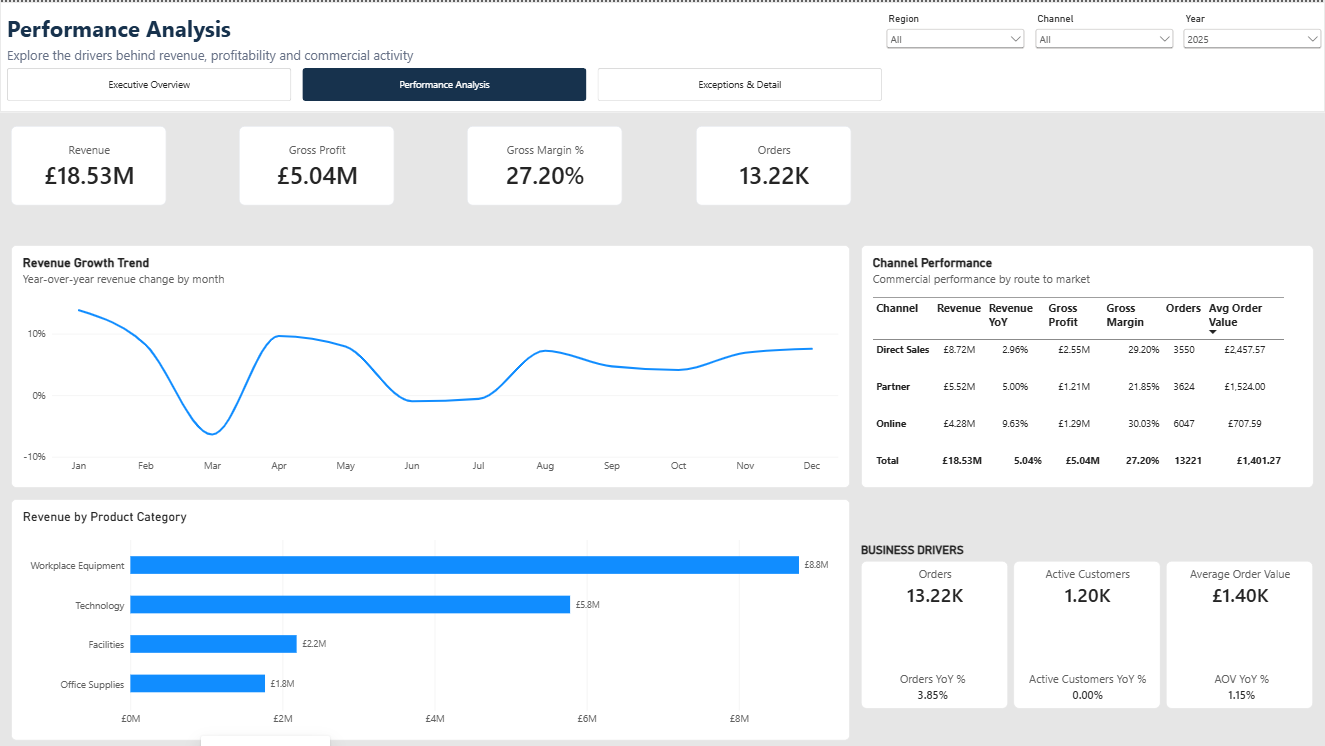

This screenshot's page, from the dashboard's own definition file:
{"tool":"powerbi","page":{"name":"Performance Analysis","canvas":[1920,1080],"ordinal":1},"visuals":[{"type":"shape","box":[0,0,1920,160],"z":0},{"type":"cardVisual","fields":{"Data":["_Measures.Gross Profit Margin %"]},"box":[677.3,180,225,115],"z":1000},{"type":"cardVisual","fields":{"Data":["_Measures.Orders"]},"box":[1008,180,225,115],"z":2000},{"type":"textbox","box":[10,16,1270,48],"z":3000},{"type":"textbox","box":[10,64,1270,32],"z":4000},{"type":"slicer","fields":{"Values":["DimChannel.Channel"]},"box":[1496,16,210,65],"z":5000},{"type":"slicer","fields":{"Values":["DimRegion.Region"]},"box":[1280,16,210,65],"z":6000},{"type":"pageNavigator","box":[10,96,1270,48],"z":7000},{"type":"cardVisual","fields":{"Data":["_Measures.Revenue"]},"box":[16,180,225,115],"z":8000},{"type":"lineChart","title":"Revenue Growth Trend","fields":{"Category":["DimDate.MonthShort"],"Y":["_Measures.Revenue YoY %"]},"box":[16,352,1216,352],"z":9000},{"type":"cardVisual","fields":{"Data":["_Measures.Gross Profit"]},"box":[346.7,180,225,115],"z":10000},{"type":"pivotTable","title":"Channel Performance","fields":{"Rows":["DimChannel.Channel"],"Values":["_Measures.Revenue","_Measures.Revenue YoY %","_Measures.Gross Profit","_Measures.Gross Margin %","_Measures.Orders","_Measures.Average Order Value"]},"box":[1248,352,656,352],"z":11000},{"type":"barChart","title":"Revenue by Product Category","fields":{"Category":["DimProduct.Category"],"Y":["_Measures.Revenue"]},"box":[16,720,1216,350],"z":12000},{"type":"cardVisual","title":"BUSINESS DRIVERS","fields":{"Data":["_Measures.Orders","_Measures.Active Customers","_Measures.Average Order Value"]},"box":[1248,784,656,240],"z":13000},{"type":"cardVisual","fields":{"Data":["_Measures.Orders YoY %"]},"box":[1248,960,208,64],"z":14000},{"type":"cardVisual","fields":{"Data":["_Measures.Active Customers YoY %"]},"box":[1472,960,208,64],"z":15000},{"type":"cardVisual","fields":{"Data":["_Measures.Average Order Value YoY %"]},"box":[1696,960,208,64],"z":16000},{"type":"slicer","fields":{"Values":["DimDate.Year"]},"box":[1710,16,210,65],"z":17000}]}

Visuals, with their boxes in screenshot pixels (x1, y1, x2, y2), scaled from the page's 1920x1080 canvas onto the 1325x746 screenshot:
shape: (0,0,1324,111)
cardVisual - _Measures.Gross Profit Margin %: (467,124,623,204)
cardVisual - _Measures.Orders: (696,124,851,204)
textbox: (7,11,883,44)
textbox: (7,44,883,66)
slicer - DimChannel.Channel: (1032,11,1177,56)
slicer - DimRegion.Region: (883,11,1028,56)
pageNavigator: (7,66,883,99)
cardVisual - _Measures.Revenue: (11,124,166,204)
"Revenue Growth Trend" lineChart: (11,243,850,486)
cardVisual - _Measures.Gross Profit: (239,124,395,204)
"Channel Performance" pivotTable: (861,243,1314,486)
"Revenue by Product Category" barChart: (11,497,850,739)
"BUSINESS DRIVERS" cardVisual: (861,542,1314,707)
cardVisual - _Measures.Orders YoY %: (861,663,1005,707)
cardVisual - _Measures.Active Customers YoY %: (1016,663,1159,707)
cardVisual - _Measures.Average Order Value YoY %: (1170,663,1314,707)
slicer - DimDate.Year: (1180,11,1324,56)
